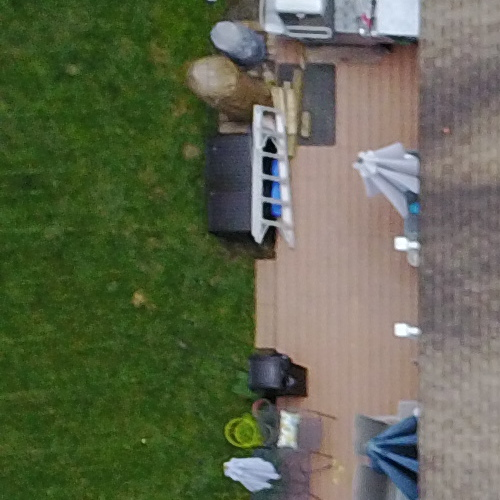flower pot: (249, 393, 279, 422)
ladder: (248, 93, 299, 259)
trash bin: (241, 348, 325, 403)
